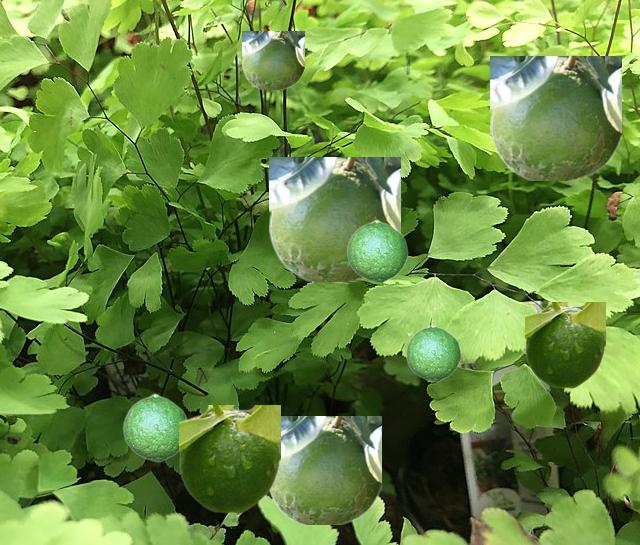dalandan: (269, 157, 399, 280), (490, 56, 620, 179), (269, 416, 380, 523), (179, 405, 279, 512), (525, 302, 604, 387), (122, 393, 187, 461), (346, 219, 407, 282), (242, 31, 303, 88), (405, 324, 460, 381)
